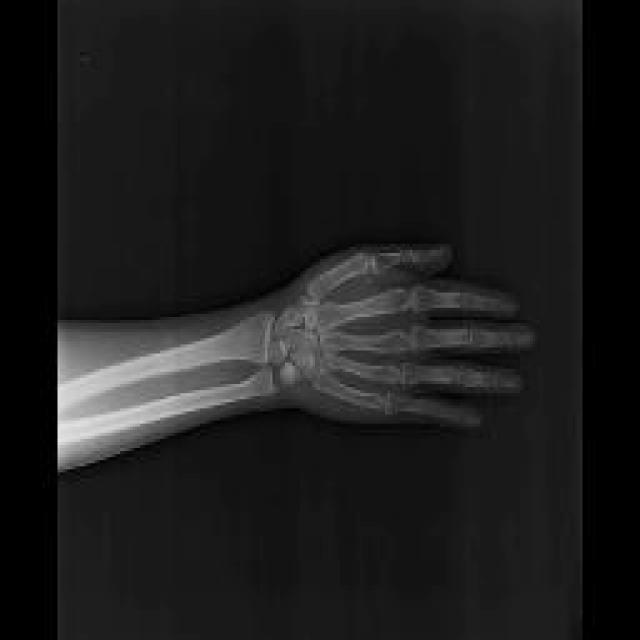normal: (57, 251, 536, 440)
